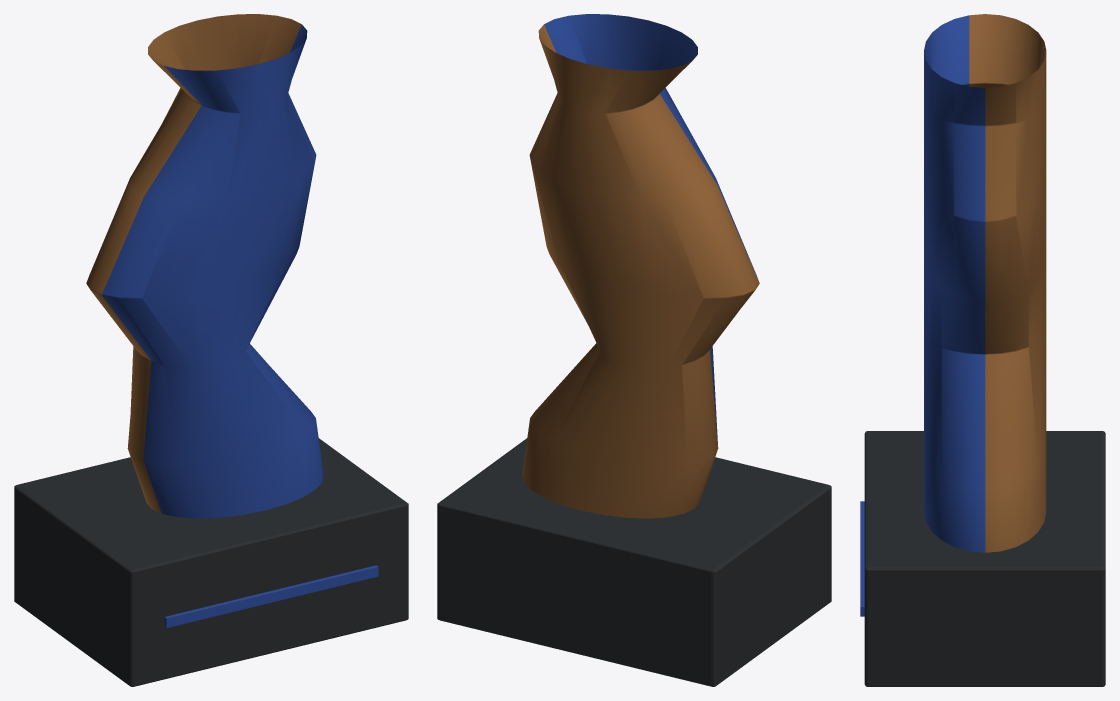
3 views of the same model, side by side, from view 1: azimuth 30°, elevation 25°; view 2: azimuth 150°, elevation 25°; view 3: azimuth 270°, elevation 25° (orthographic).
Visible parts, largest first — view 1: TI038 / Artemian abstract curved sculpture, TI038 / black plinth, TI038 / cyan pedestal inlay; view 2: TI038 / Artemian abstract curved sculpture, TI038 / black plinth; view 3: TI038 / Artemian abstract curved sculpture, TI038 / black plinth, TI038 / cyan pedestal inlay.
Boxes of the visible parts, x1,y1,x2,y2 form: TI038 / Artemian abstract curved sculpture: (86, 14, 323, 518); TI038 / black plinth: (14, 438, 408, 686); TI038 / cyan pedestal inlay: (164, 565, 378, 627); TI038 / Artemian abstract curved sculpture: (522, 14, 759, 518); TI038 / black plinth: (437, 438, 831, 686); TI038 / Artemian abstract curved sculpture: (924, 14, 1046, 552); TI038 / black plinth: (864, 431, 1105, 686); TI038 / cyan pedestal inlay: (860, 501, 864, 616).
Bounding box in the file's own units: 1.5 × 2.9 × 1.12.
